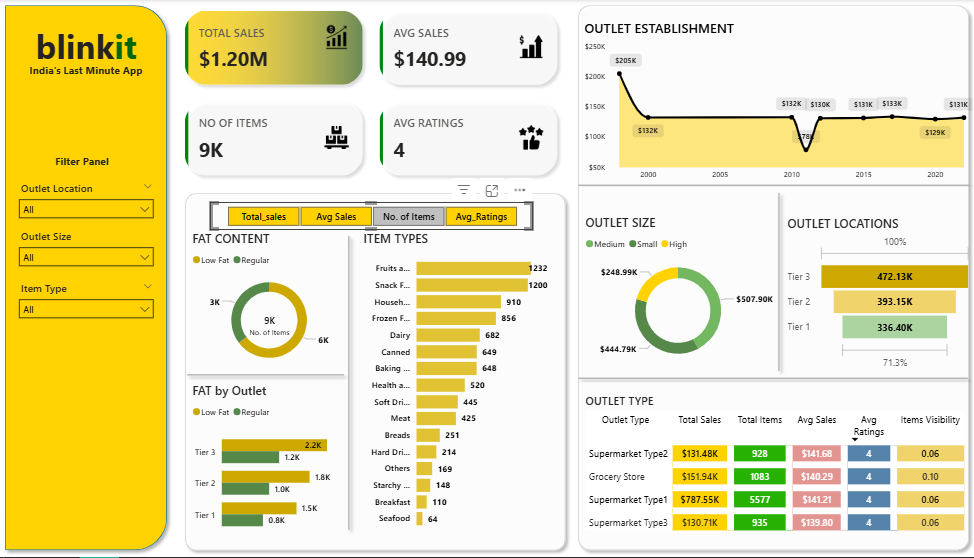

The dashboard page shown, as its layout file describes it:
{"tool":"powerbi","page":{"name":"Page 1","canvas":[1400,800],"ordinal":0},"visuals":[{"type":"shape","box":[0,0,249.9,799.2],"z":0},{"type":"textbox","box":[38.3,28.3,173.3,75],"z":1000},{"type":"textbox","box":[31.7,86.7,186.7,33.3],"z":2000},{"type":"cardVisual","fields":{"Data":["BlinkIT Grocery Data.Total_sales","BlinkIT Grocery Data.Avg Sales","BlinkIT Grocery Data.No. of Items","BlinkIT Grocery Data.Avg_Ratings"]},"box":[249.9,0,569.6,270.1],"z":3000},{"type":"shape","box":[257.4,269.5,563,529.9],"z":4000},{"type":"donutChart","title":"FAT CONTENT","fields":{"Y":["BlinkIT Grocery Data.Total_sales"],"Category":["BlinkIT Grocery Data.Item Fat Content"]},"box":[273.1,330.9,229.7,207.2],"z":5000},{"type":"slicer","fields":{"Values":["Metrics.Metrics"]},"box":[302,290.8,464.3,40.2],"z":6000},{"type":"cardVisual","fields":{"Data":["BlinkIT Grocery Data.Total_sales"]},"box":[324.5,430.5,128.5,75.5],"z":7000},{"type":"clusteredBarChart","title":"FAT by Outlet ","fields":{"Y":["BlinkIT Grocery Data.Total_sales"],"Category":["BlinkIT Grocery Data.Outlet Location Type"],"Series":["BlinkIT Grocery Data.Item Fat Content"]},"box":[272.5,549.5,228.8,231.8],"z":8000},{"type":"shape","box":[260.2,526.9,242.6,22.5],"z":9000},{"type":"shape","box":[483.5,330.9,36.9,438.6],"z":10000},{"type":"barChart","title":"ITEM TYPES","fields":{"Y":["BlinkIT Grocery Data.Total_sales"],"Category":["BlinkIT Grocery Data.Item Type"]},"box":[517.8,331.2,274,438.1],"z":11000},{"type":"shape","box":[821.9,0,578.1,799.4],"z":12000},{"type":"lineChart","title":" OUTLET ESTABLISHMENT ","fields":{"Category":["BlinkIT Grocery Data.Outlet Establishment Year"],"Y":["BlinkIT Grocery Data.Total_sales"]},"box":[834,28.6,566,240.9],"z":13000},{"type":"shape","box":[821.5,258.1,579.2,11.5],"z":14000},{"type":"donutChart","title":"OUTLET SIZE","fields":{"Y":["BlinkIT Grocery Data.Total_sales"],"Category":["BlinkIT Grocery Data.Outlet Size"]},"box":[835.5,308.6,275.5,225.8],"z":15000},{"type":"funnel","title":"OUTLET LOCATIONS","fields":{"Y":["Sum(BlinkIT Grocery Data.Total Sales)"],"Category":["BlinkIT Grocery Data.Outlet Location Type"]},"box":[1126,310.1,274,225.8],"z":16000},{"type":"pivotTable","title":"OUTLET TYPE","fields":{"Values":["BlinkIT Grocery Data.Total_sales","BlinkIT Grocery Data.No. of Items","BlinkIT Grocery Data.Avg Sales","BlinkIT Grocery Data.Avg_Ratings","Avg(BlinkIT Grocery Data.Item Visibility)"],"Rows":["BlinkIT Grocery Data.Outlet Type"]},"box":[835.7,564.3,564.3,205.7],"z":17000},{"type":"shape","box":[821.8,535.5,576.4,14.5],"z":17001},{"type":"shape","box":[1100,270,37.1,272.9],"z":17002},{"type":"slicer","fields":{"Values":["BlinkIT Grocery Data.Outlet Location Type"]},"box":[18.3,255.6,213.3,68.3],"z":17003},{"type":"slicer","fields":{"Values":["BlinkIT Grocery Data.Outlet Size"]},"box":[18.3,323.9,213.3,68.3],"z":17004},{"type":"slicer","fields":{"Values":["BlinkIT Grocery Data.Item Type"]},"box":[18.3,398.9,213.3,68.3],"z":17005},{"type":"textbox","box":[61.6,216.5,114.7,38.7],"z":17006}]}

Visuals, with their boxes in screenshot pixels (x1, y1, x2, y2), scaled from the page's 1400x800 canvas onto the 974x558 screenshot:
shape: box(0, 0, 174, 557)
textbox: box(27, 20, 147, 72)
textbox: box(22, 60, 152, 84)
cardVisual - BlinkIT Grocery Data.Total_sales x BlinkIT Grocery Data.Avg Sales: box(174, 0, 570, 188)
shape: box(179, 188, 571, 557)
"FAT CONTENT" donutChart: box(190, 231, 350, 375)
slicer - Metrics.Metrics: box(210, 203, 533, 231)
cardVisual - BlinkIT Grocery Data.Total_sales: box(226, 300, 315, 353)
"FAT by Outlet " clusteredBarChart: box(190, 383, 349, 545)
shape: box(181, 368, 350, 383)
shape: box(336, 231, 362, 537)
"ITEM TYPES" barChart: box(360, 231, 551, 537)
shape: box(572, 0, 973, 557)
" OUTLET ESTABLISHMENT " lineChart: box(580, 20, 973, 188)
shape: box(572, 180, 973, 188)
"OUTLET SIZE" donutChart: box(581, 215, 773, 373)
"OUTLET LOCATIONS" funnel: box(783, 216, 973, 374)
"OUTLET TYPE" pivotTable: box(581, 394, 973, 537)
shape: box(572, 374, 973, 384)
shape: box(765, 188, 791, 379)
slicer - BlinkIT Grocery Data.Outlet Location Type: box(13, 178, 161, 226)
slicer - BlinkIT Grocery Data.Outlet Size: box(13, 226, 161, 274)
slicer - BlinkIT Grocery Data.Item Type: box(13, 278, 161, 326)
textbox: box(43, 151, 123, 178)
